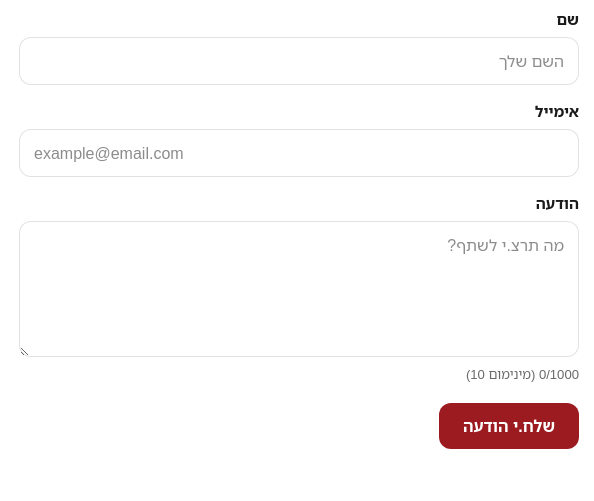
Test: ContactForm › shows network error message when action throws
The image size is (594, 501).
Type "יוסי כהן" into the field with placeholder "השם שלך" at [299, 61], box x1=19 y1=37 x2=579 y2=85
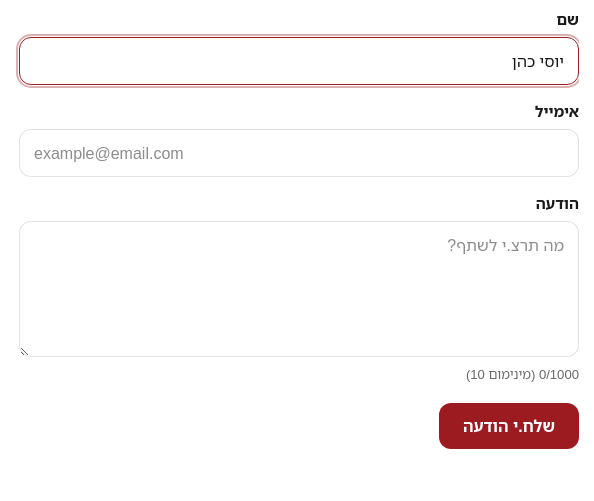
Type "test@example.com" into the field with placeholder "example@email.com" at [299, 153], box x1=19 y1=129 x2=579 y2=177
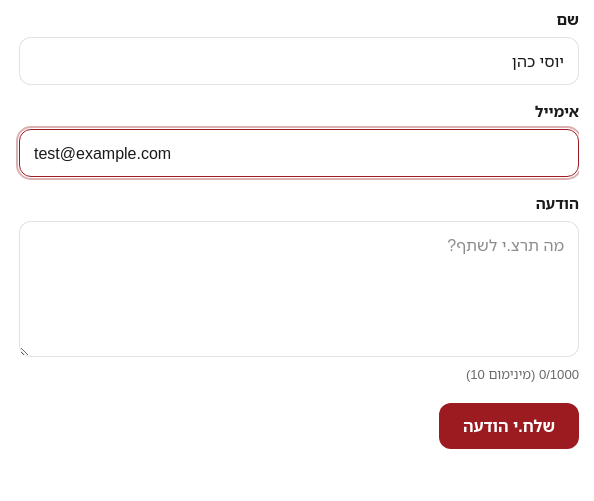
Type "הודעה טובה מאוד שמכילה מספיק תווים" into the text box with placeholder "מה תרצ.י לשתף?" at [299, 289], box x1=19 y1=221 x2=579 y2=357
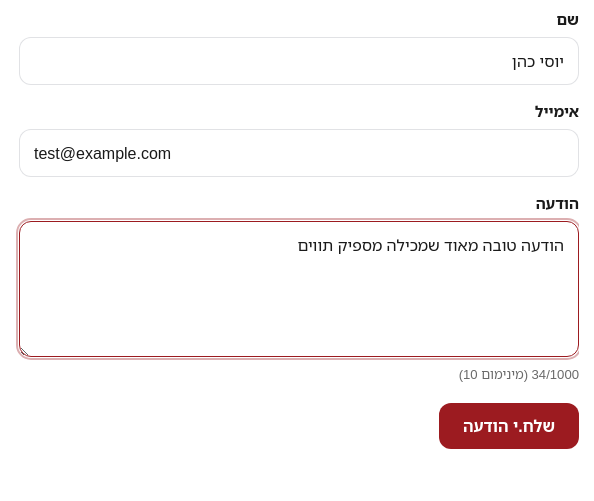
Click the button "שלח.י הודעה" at [509, 426], box x1=439 y1=403 x2=579 y2=449
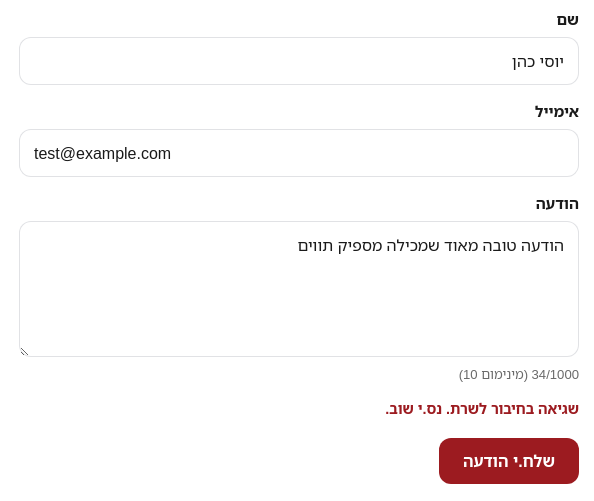
expect the text "שגיאה בחיבור לשרת. נס.י שוב." is shown: met, box x1=385 y1=399 x2=579 y2=418
